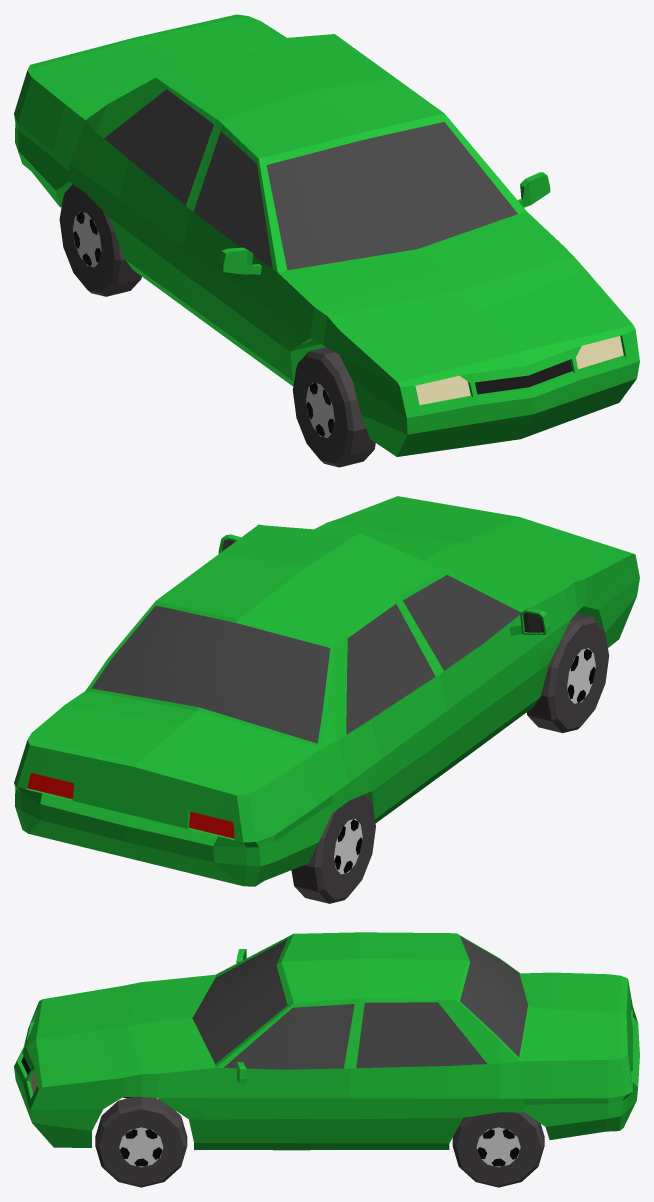
Rendered from 7green.fbx.
3 renders of one model, top to bottom at view 1: azimuth 30°, elevation 25°; view 2: azimuth 150°, elevation 25°; view 3: azimuth 270°, elevation 25°, orthographic. The views are drawn at different scales.
Parts seen in each view (by area): view 1: Cube; view 2: Cube; view 3: Cube.
Part boxes in pixels (left/top/right/bottom): Cube: left=14, top=14, right=639, bottom=467; Cube: left=14, top=496, right=639, bottom=903; Cube: left=14, top=932, right=639, bottom=1187.
Size of the model in its own units: 275 by 190 by 594.
